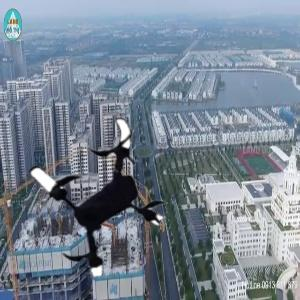drone: (13, 111, 179, 277)
